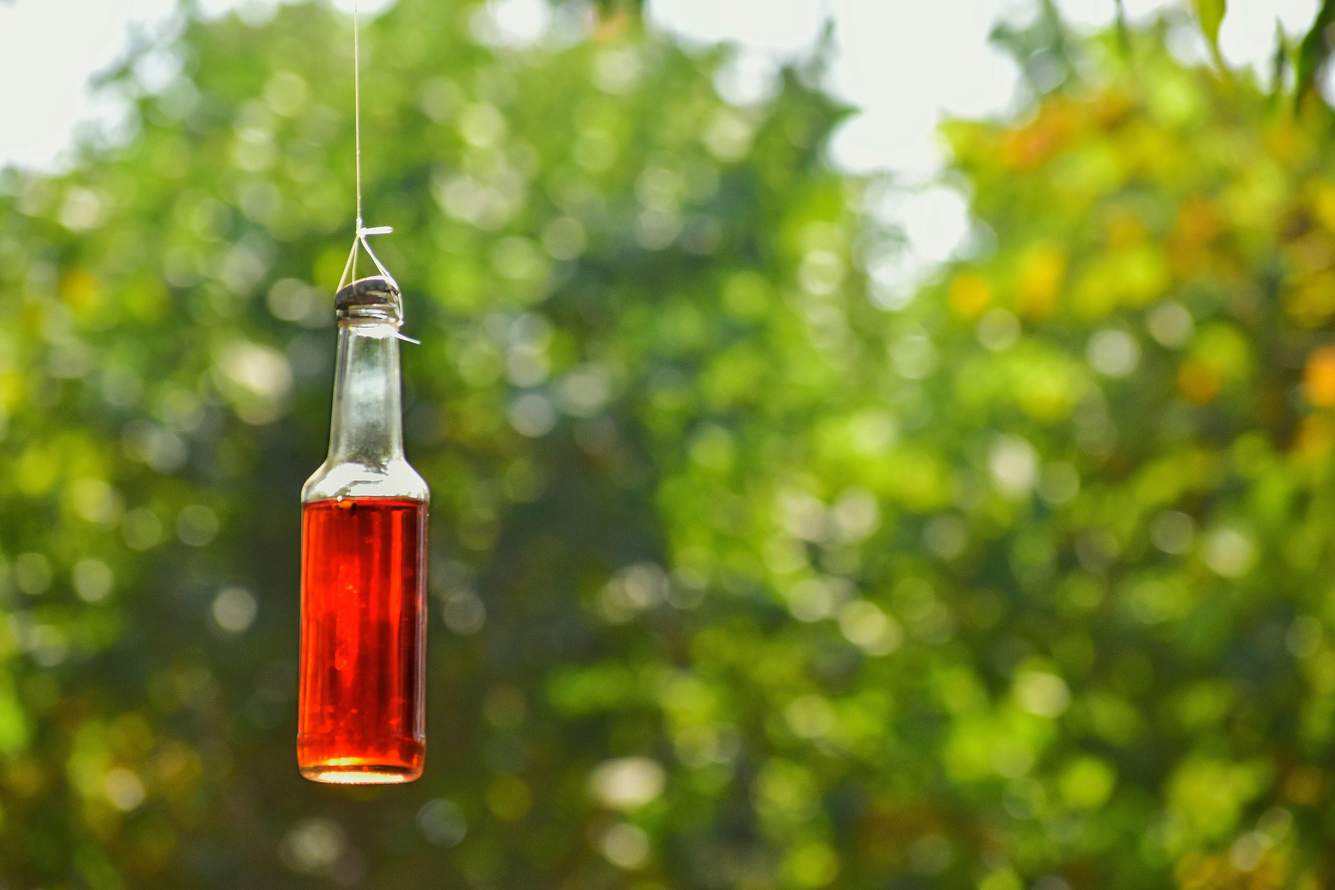Bottle-Detection: (258, 209, 487, 819)
